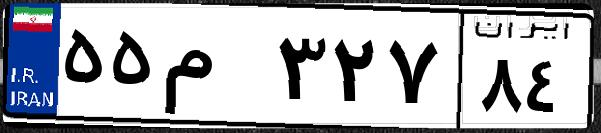2: (330, 28, 385, 110)
3: (270, 28, 330, 110)
4: (525, 38, 570, 115)
5: (57, 26, 110, 100), (110, 28, 158, 98)
7: (385, 28, 445, 110)
8: (475, 38, 525, 113)
م: (158, 20, 270, 120)
